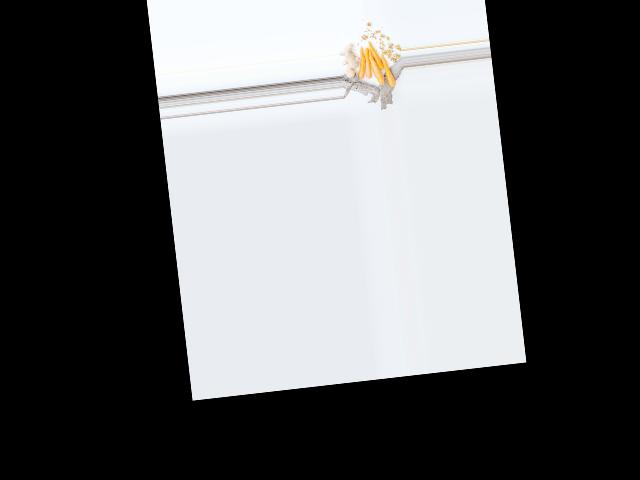carrot: (351, 47, 368, 81)
